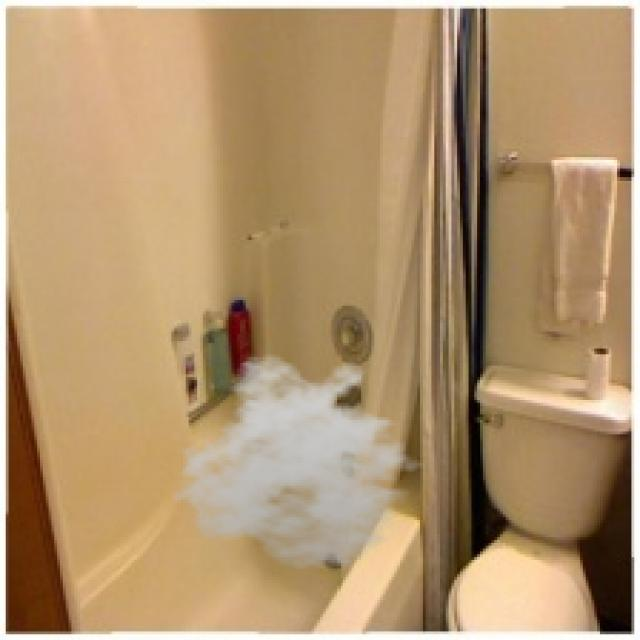smoke: (169, 352, 440, 572)
